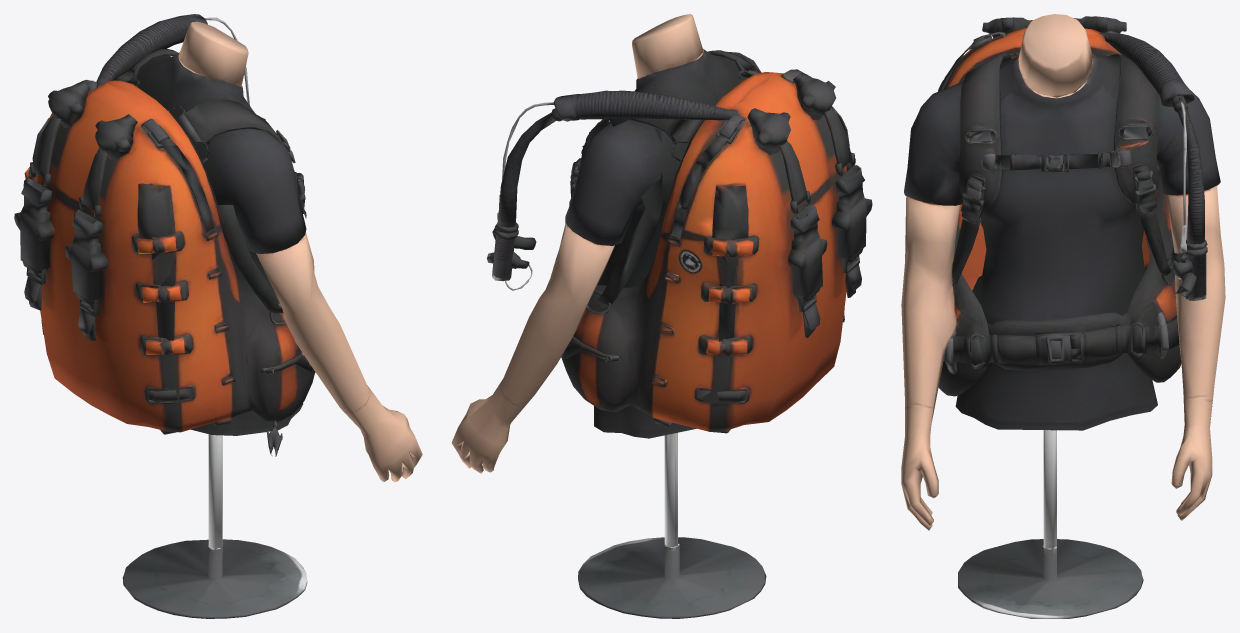
The model's file is torso.glb.
The picture shows the model from 3 angles, left to right: view 1: azimuth 30°, elevation 25°; view 2: azimuth 150°, elevation 25°; view 3: azimuth 270°, elevation 25°; orthographic projection. The views are drawn at different scales.
Visible parts, largest first — view 1: tripo_node_8179745a-d234-4840-861e-5df4f0f73584; view 2: tripo_node_8179745a-d234-4840-861e-5df4f0f73584; view 3: tripo_node_8179745a-d234-4840-861e-5df4f0f73584.
Part boxes in pixels (x1,y1,x2,y2): tripo_node_8179745a-d234-4840-861e-5df4f0f73584: (14,14,422,618); tripo_node_8179745a-d234-4840-861e-5df4f0f73584: (451,14,872,618); tripo_node_8179745a-d234-4840-861e-5df4f0f73584: (901,14,1225,618).
Bounding box in the file's own units: 1.05 × 1.8 × 0.9476.
1 material, 1 textured.
